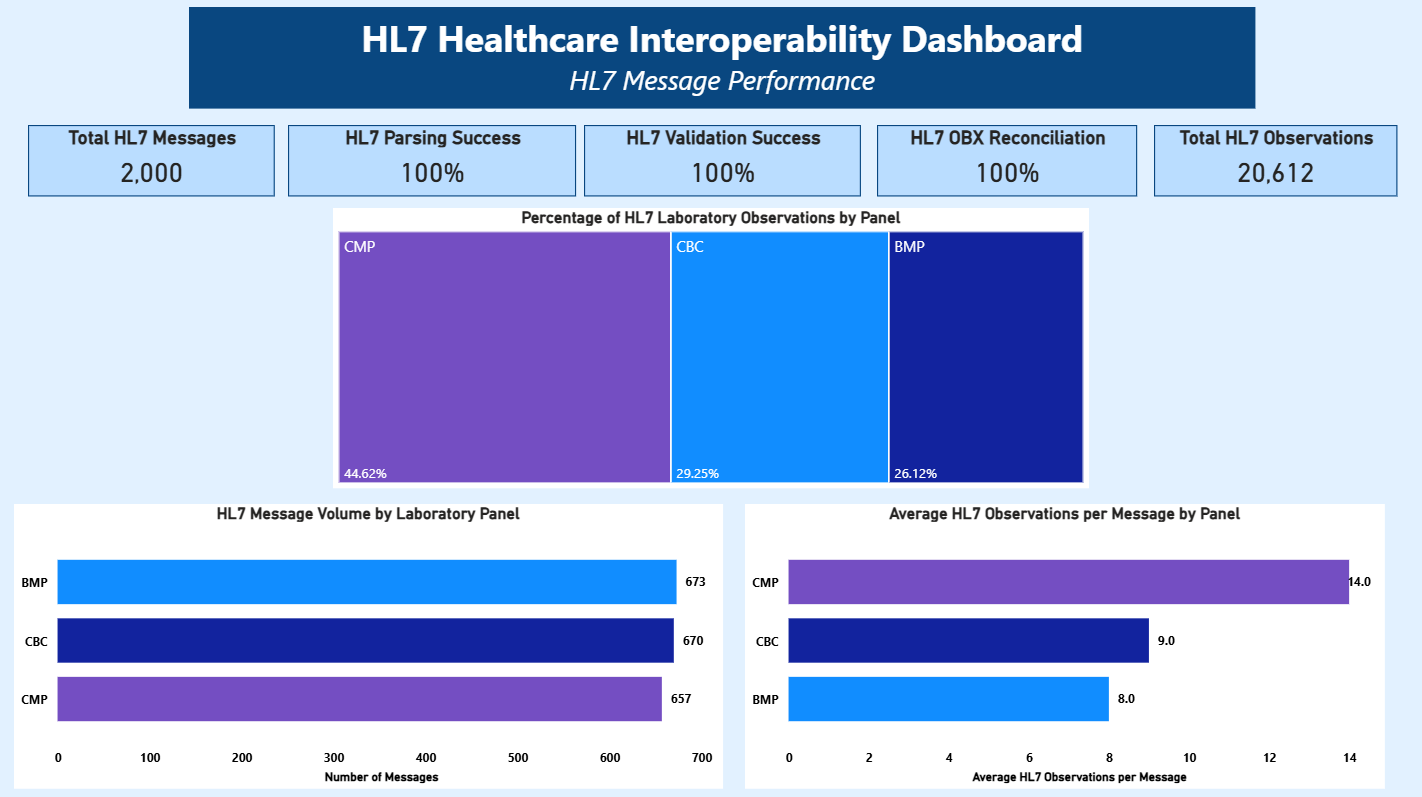

What the dashboard file says about the page in this screenshot:
{"tool":"powerbi","page":{"name":"HL7 Message Performance","canvas":[1280,720],"ordinal":2},"visuals":[{"type":"card","title":"Total HL7 Messages","fields":{"Values":["Count(public vw_hl7_performance.message_id)"]},"box":[28.3,116.5,221,64.2],"z":0},{"type":"card","title":"HL7 Parsing Success","fields":{"Values":["public vw_hl7_performance.HL7 Parsing Success %"]},"box":[261.2,116.5,258,64.2],"z":1000},{"type":"card","title":"HL7 Validation Success","fields":{"Values":["public vw_hl7_performance.HL7 Validation Success %"]},"box":[526.8,116.5,248.2,64.2],"z":2000},{"type":"clusteredBarChart","title":"HL7 Message Volume by Laboratory Panel","fields":{"Category":["public vw_hl7_performance.panel"],"Y":["Count(public vw_hl7_performance.message_id)"]},"box":[16.3,456.1,634.6,254.7],"z":3000},{"type":"treemap","title":"Percentage of HL7 Laboratory Observations by Panel","fields":{"Group":["public vw_hl7_performance.panel"],"Values":["Sum(public vw_hl7_performance.obx_count)"]},"box":[301.5,190.5,677,251.4],"z":4000},{"type":"card","title":"HL7 OBX Reconciliation","fields":{"Values":["public vw_hl7_performance.HL7 OBX Reconciliation %"]},"box":[789.1,116.5,232.9,64.2],"z":5000},{"type":"card","title":"Total HL7 Observations","fields":{"Values":["public vw_hl7_performance.Total HL7 Observations"]},"box":[1037.3,116.5,217.7,64.2],"z":6000},{"type":"clusteredBarChart","title":"Average HL7 Observations per Message by Panel","fields":{"Category":["public vw_hl7_performance.panel"],"Y":["public vw_hl7_performance.Average HL7 Observations per Message"]},"box":[670.5,456.1,572.5,254.7],"z":7000},{"type":"textbox","box":[173.1,10.9,954.6,91.4],"z":8000}]}

Visuals, with their boxes in screenshot pixels (x1, y1, x2, y2), scaled from the page's 1280x720 canvas onto the 1422x797 screenshot:
"Total HL7 Messages" card: x1=31 y1=129 x2=277 y2=200
"HL7 Parsing Success" card: x1=290 y1=129 x2=577 y2=200
"HL7 Validation Success" card: x1=585 y1=129 x2=861 y2=200
"HL7 Message Volume by Laboratory Panel" clusteredBarChart: x1=18 y1=505 x2=723 y2=787
"Percentage of HL7 Laboratory Observations by Panel" treemap: x1=335 y1=211 x2=1087 y2=489
"HL7 OBX Reconciliation" card: x1=877 y1=129 x2=1135 y2=200
"Total HL7 Observations" card: x1=1152 y1=129 x2=1394 y2=200
"Average HL7 Observations per Message by Panel" clusteredBarChart: x1=745 y1=505 x2=1381 y2=787
textbox: x1=192 y1=12 x2=1253 y2=113
